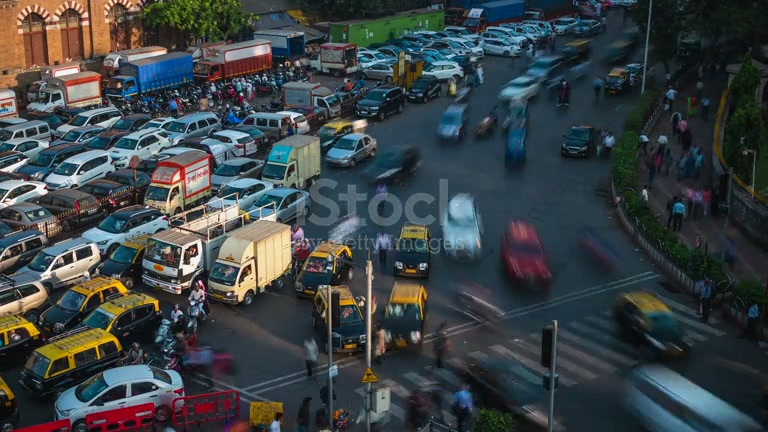bus: (101, 47, 194, 112), (142, 145, 213, 221), (260, 133, 322, 190)
car: (619, 362, 767, 432), (53, 363, 186, 430), (19, 325, 127, 397), (38, 275, 131, 342), (612, 290, 692, 358), (140, 227, 206, 295), (78, 206, 169, 253), (499, 219, 554, 294), (312, 284, 368, 352), (293, 240, 353, 298), (382, 281, 429, 347), (441, 192, 483, 263), (88, 236, 150, 284), (239, 187, 313, 226), (361, 143, 423, 188), (0, 227, 45, 275), (324, 132, 378, 169), (354, 87, 408, 120), (436, 102, 470, 144), (497, 74, 542, 104), (0, 373, 21, 431), (560, 125, 596, 158)
pedestrian: (451, 384, 474, 431), (698, 277, 714, 322), (671, 197, 685, 232)
truck: (205, 218, 293, 306), (261, 133, 322, 190)
